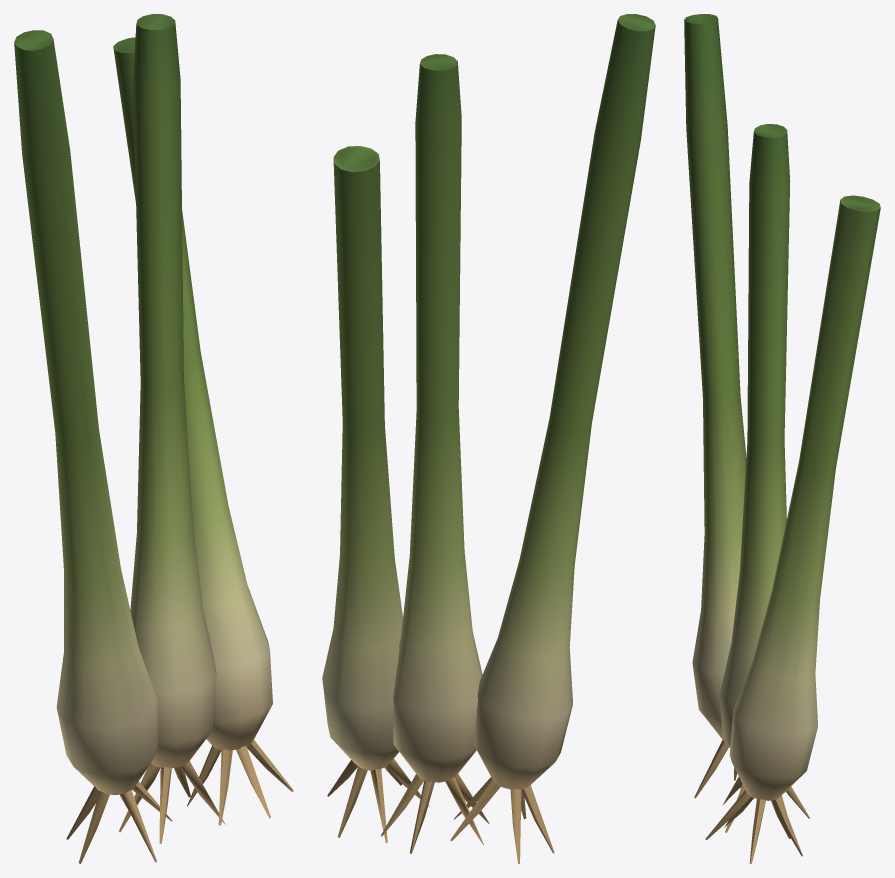
File: spring_onions.glb
The picture shows the model from 3 angles, left to right: view 1: azimuth 30°, elevation 25°; view 2: azimuth 150°, elevation 25°; view 3: azimuth 270°, elevation 25°; orthographic projection. The views are drawn at different scales.
Parts seen in each view (by area): view 1: Plant; view 2: Plant; view 3: Plant.
Boxes of the visible parts, x1,y1,x2,y2 form: Plant: (14,14,293,863); Plant: (322,14,655,863); Plant: (684,14,880,863).
Size of the model in its own units: 0.1605 by 0.4307 by 0.1042.
